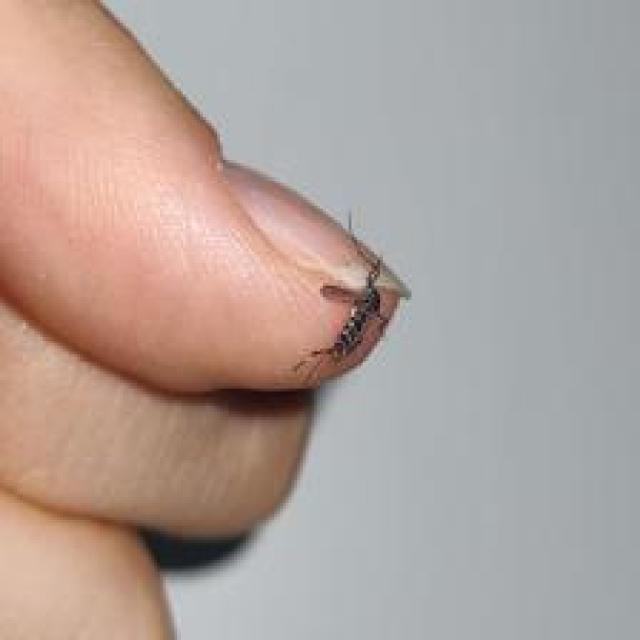Aedes albopictus: (288, 212, 412, 388)
